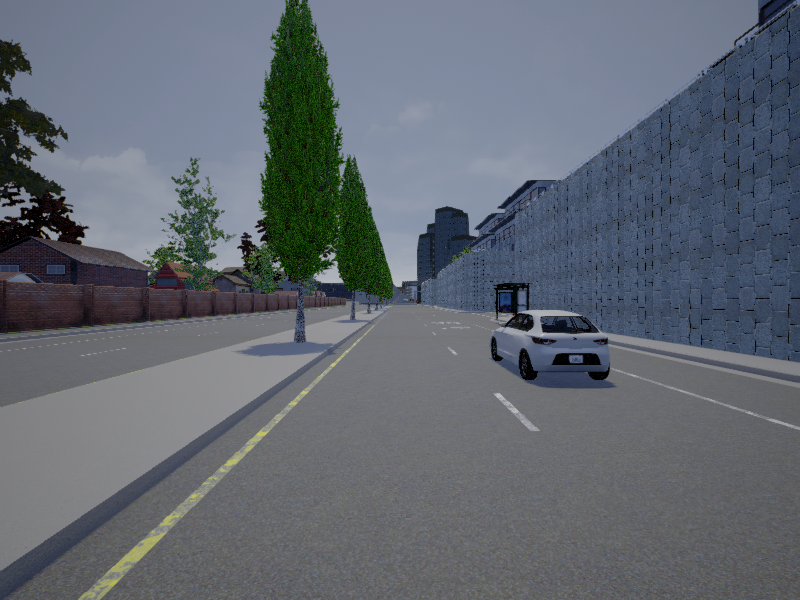Benign: (489, 312, 614, 381)
